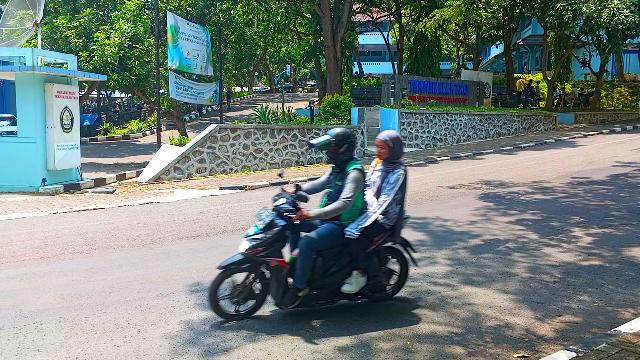helm: (310, 128, 356, 161), (376, 130, 404, 160)
motor: (211, 193, 420, 322)
